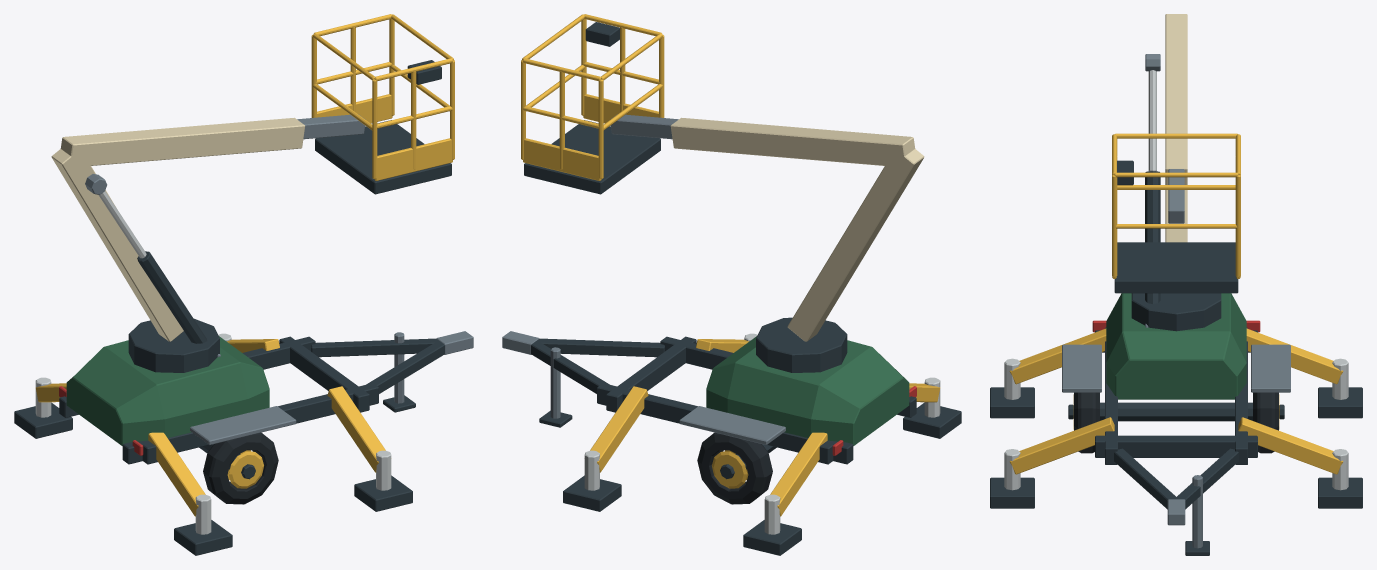
The model's file is b07_towable_cherry_picker.glb.
3 renders of one model, left to right at view 1: azimuth 30°, elevation 25°; view 2: azimuth 150°, elevation 25°; view 3: azimuth 270°, elevation 25°, orthographic. The views are drawn at different scales.
Visible parts, largest first — view 1: b07_towable_cherry_picker; view 2: b07_towable_cherry_picker; view 3: b07_towable_cherry_picker.
Boxes of the visible parts, x1,y1,x2,y2 form: b07_towable_cherry_picker: (14, 14, 473, 555); b07_towable_cherry_picker: (502, 14, 961, 555); b07_towable_cherry_picker: (990, 14, 1362, 555).
Size of the model in its own units: 4.15 by 3.64 by 3.16.
